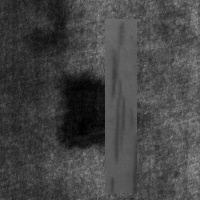inclusion: (105, 19, 137, 193)
patches: (55, 71, 138, 148)
